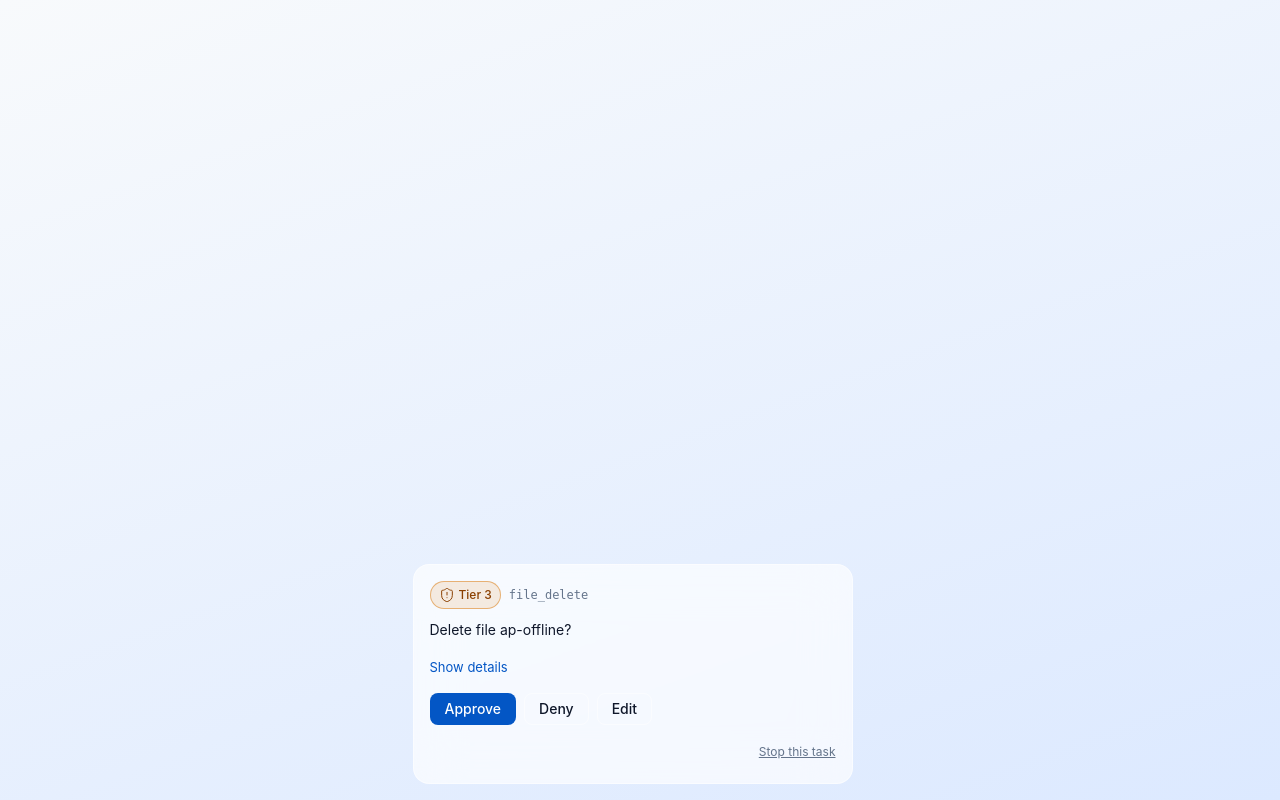
Test: a card answered while the socket is down stays up until the decision can reach the Brain
Click the button "Deny": (556, 709) [524,693,589,725]
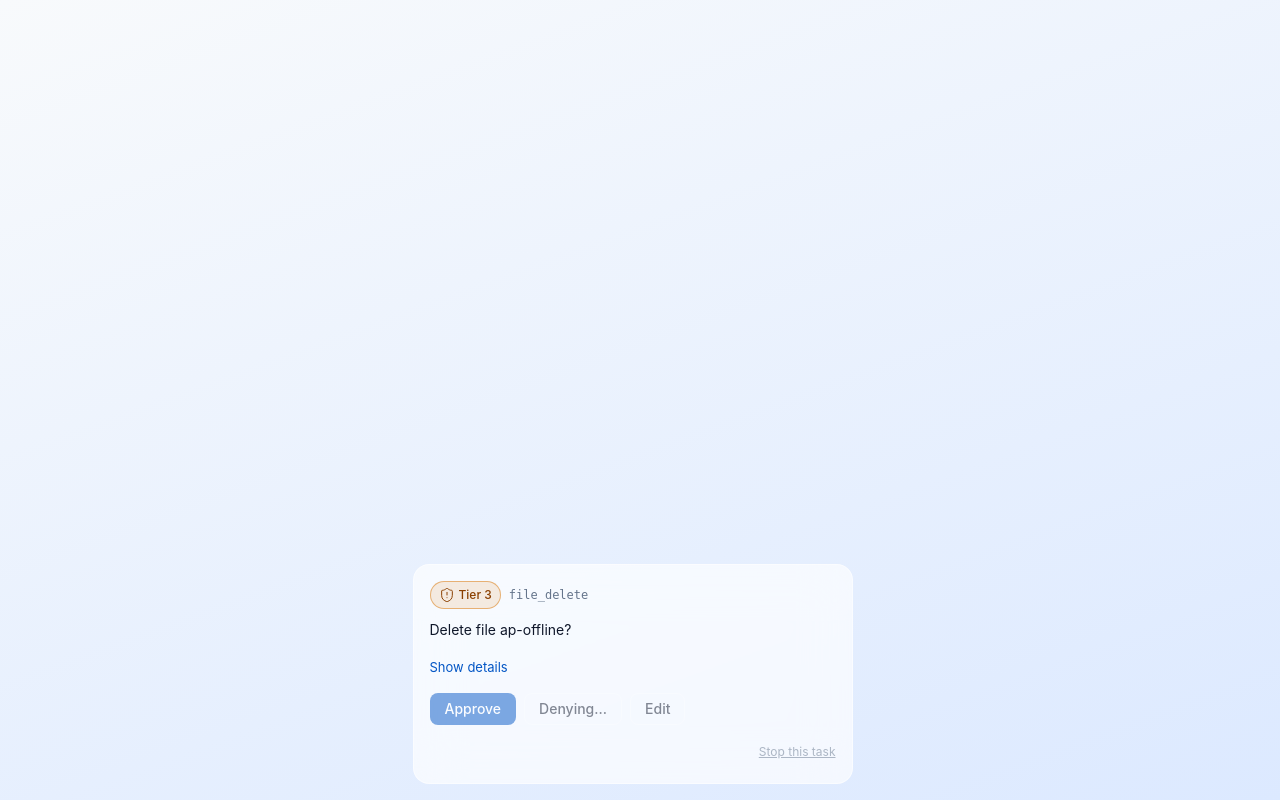
Expected: the text "Delete file ap-offline?" is shown, [430,621,571,638]
Expected: the button "Denying…" is disabled, [524,693,622,725]
